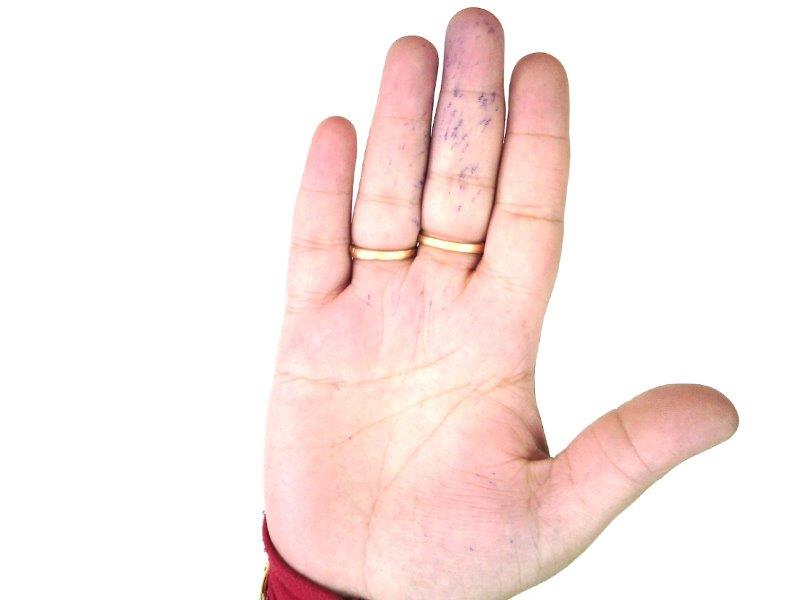hand: (259, 4, 739, 579)
